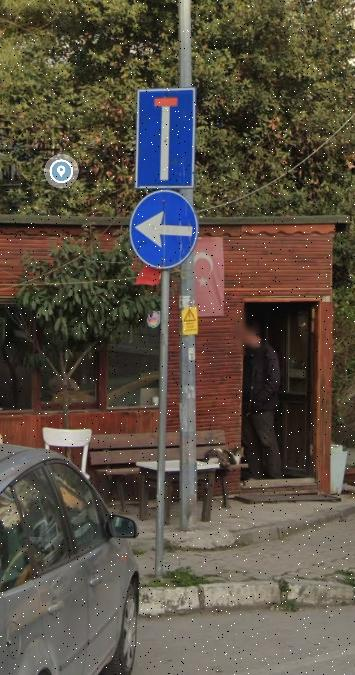turnleft: (129, 191, 198, 269)
